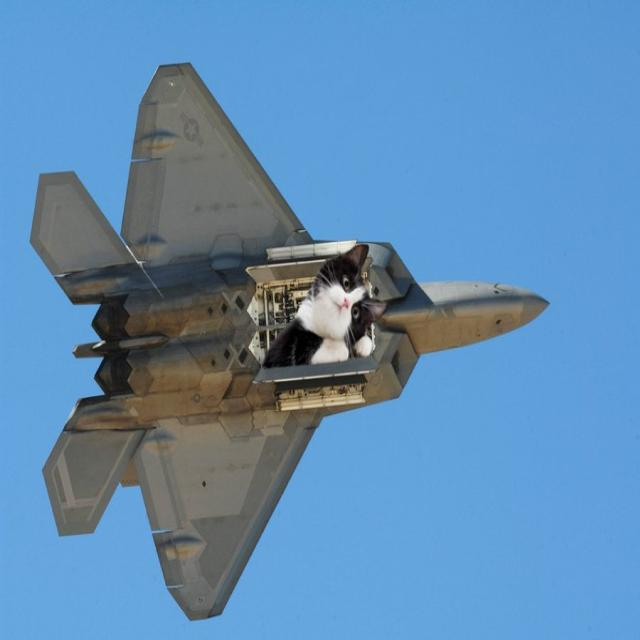MIL_Plane: (28, 61, 550, 622)
